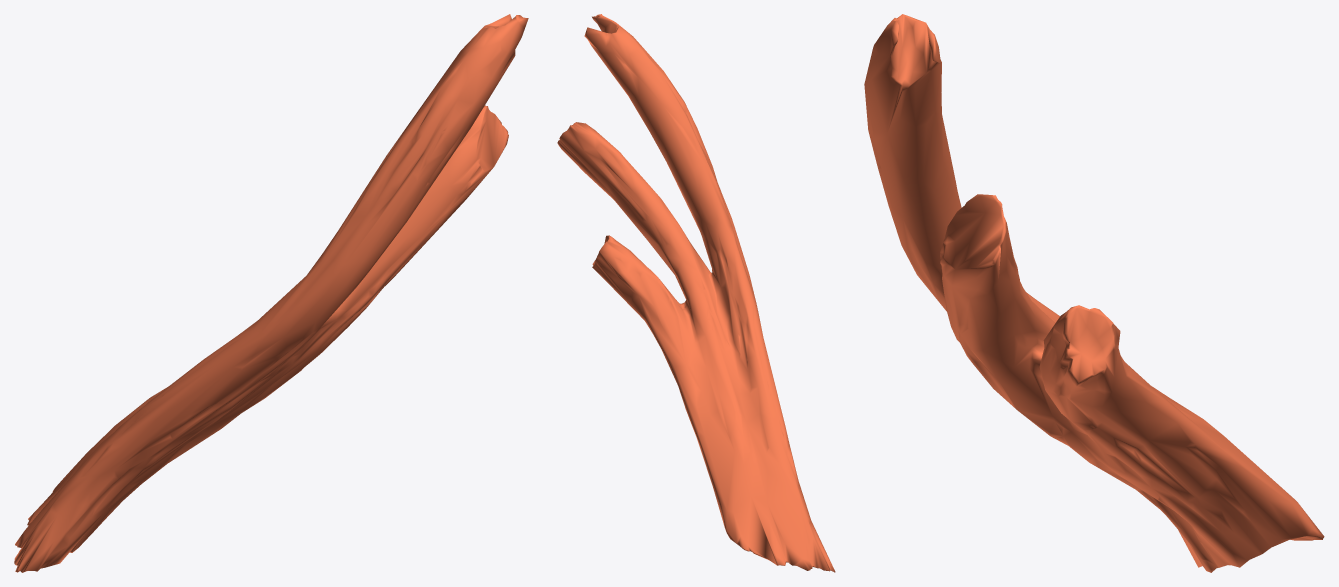
Rendered from Scalene_posterior_right.glb.
3 renders of one model, left to right at view 1: azimuth 30°, elevation 25°; view 2: azimuth 150°, elevation 25°; view 3: azimuth 270°, elevation 25°, orthographic. The views are drawn at different scales.
Visible parts, largest first — view 1: Scalenus_posterior.r_Generated_Mesh_From_X3D.233; view 2: Scalenus_posterior.r_Generated_Mesh_From_X3D.233; view 3: Scalenus_posterior.r_Generated_Mesh_From_X3D.233.
Boxes of the visible parts, x1=… form: Scalenus_posterior.r_Generated_Mesh_From_X3D.233: x1=14, y1=14, x2=528, y2=572; Scalenus_posterior.r_Generated_Mesh_From_X3D.233: x1=557, y1=14, x2=835, y2=572; Scalenus_posterior.r_Generated_Mesh_From_X3D.233: x1=864, y1=14, x2=1324, y2=572.
Bounding box in the file's own units: 0.0443 × 0.0537 × 0.0275.
